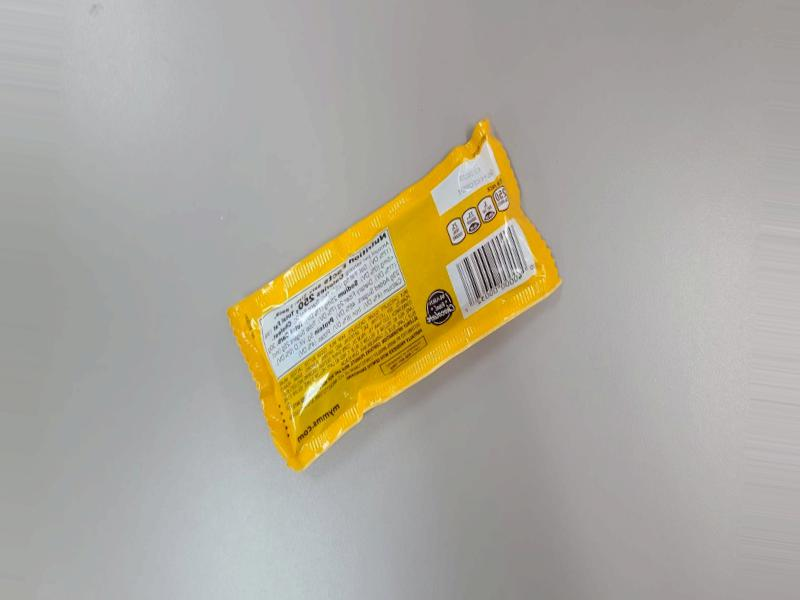m&m: (232, 93, 566, 478)
